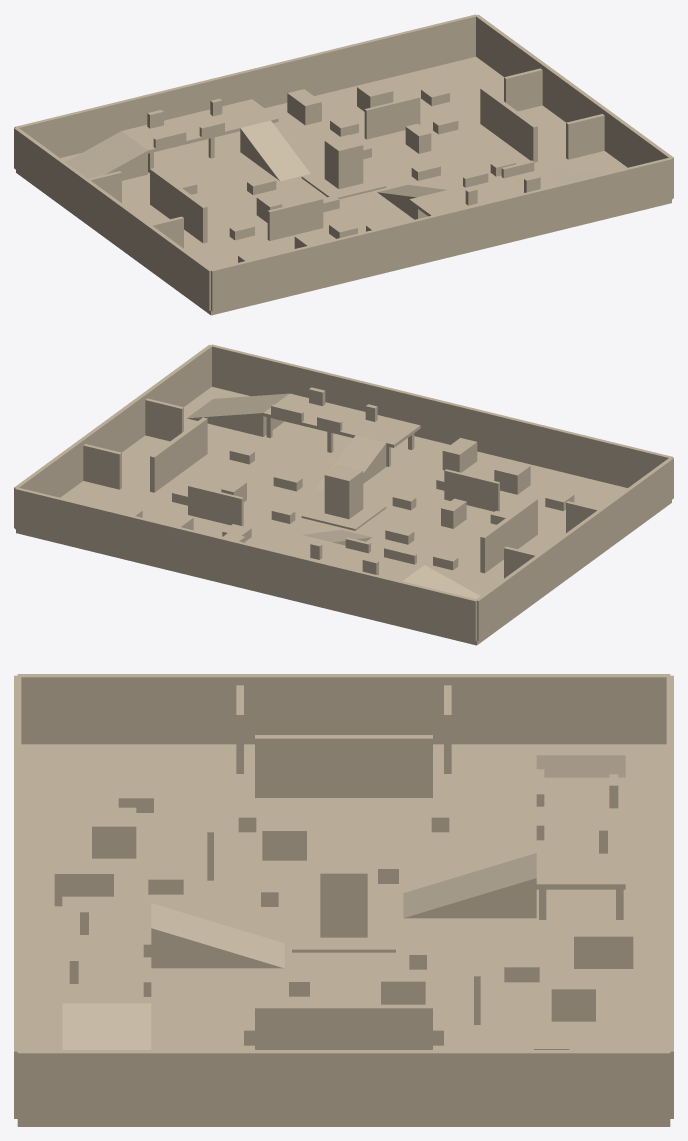
File: zenith_collision.glb
3 views of the same model, one above another, from view 1: azimuth 30°, elevation 25°; view 2: azimuth 150°, elevation 25°; view 3: azimuth 270°, elevation 25° (orthographic). The views are drawn at different scales.
Visible parts, largest first — view 1: COL_floor_terrace, COL_wall_south, COL_wall_north, COL_wall_west, COL_wall_east, COL_terrace_deck_a, COL_ramp_home_a, COL_terrace_deck_b, COL_ramp_counter_a, COL_east_spawn_screen, COL_west_spawn_screen, COL_gnomon (+14 smaller); view 2: COL_floor_terrace, COL_wall_north, COL_wall_south, COL_wall_west, COL_wall_east, COL_terrace_deck_b, COL_ramp_home_b, COL_terrace_deck_a, COL_east_spawn_screen, COL_west_spawn_screen, COL_gnomon, COL_garden_screen_a (+12 smaller); view 3: COL_floor_terrace, COL_wall_east, COL_wall_west, COL_west_spawn_screen, COL_terrace_deck_a, COL_terrace_deck_b, COL_east_spawn_screen, COL_ramp_counter_a, COL_ramp_counter_b, COL_ramp_home_b, COL_gnomon, COL_court_dais (+16 smaller).
Part boxes in pixels (x1,y1,x2,y2): COL_floor_terrace: (16,57,671,315); COL_wall_south: (210,158,673,311); COL_wall_north: (14,14,476,157); COL_wall_west: (14,127,211,310); COL_wall_east: (475,14,673,197); COL_terrace_deck_a: (122,99,278,153); COL_ramp_home_a: (66,131,147,180); COL_terrace_deck_b: (409,167,561,216); COL_ramp_counter_a: (240,120,310,181); COL_east_spawn_screen: (480,87,537,162); COL_west_spawn_screen: (150,168,207,243); COL_gnomon: (324,135,363,189); COL_floor_terrace: (16,387,671,645); COL_wall_north: (14,488,477,641); COL_wall_south: (211,344,673,487); COL_wall_west: (476,457,673,640); COL_wall_east: (14,344,212,527); COL_terrace_deck_b: (263,393,420,447); COL_ramp_home_b: (187,393,289,436); COL_terrace_deck_a: (272,533,423,580); COL_east_spawn_screen: (150,417,207,492); COL_west_spawn_screen: (480,498,537,573); COL_gnomon: (324,465,363,519); COL_garden_screen_a: (188,484,243,526); COL_floor_terrace: (17,744,670,1126); COL_wall_east: (17,1050,670,1120); COL_wall_west: (17,674,670,744); COL_west_spawn_screen: (255,735,432,797); COL_terrace_deck_a: (536,777,625,889); COL_terrace_deck_b: (62,896,151,1003); COL_east_spawn_screen: (255,1004,432,1049); COL_ramp_counter_a: (403,853,536,918); COL_ramp_counter_b: (151,903,284,968); COL_ramp_home_b: (62,1003,151,1049); COL_gnomon: (320,853,367,937); COL_court_dais: (292,905,395,952).
Bounding box in the file's own units: 60.5 × 5.6 × 44.5.
